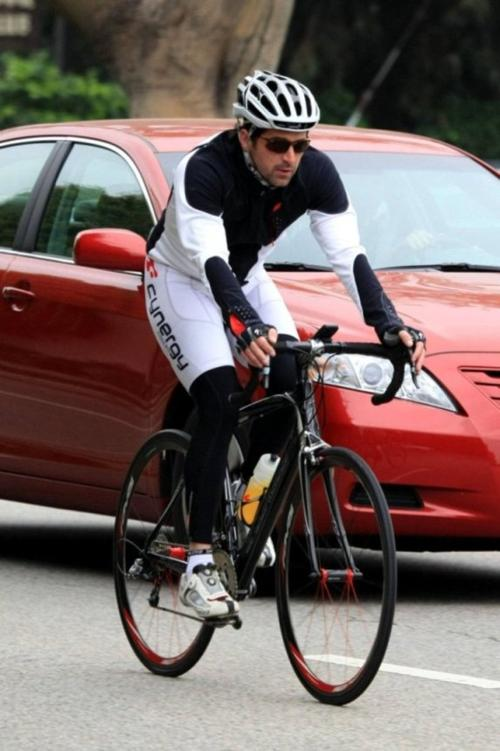person: (142, 72, 426, 625)
